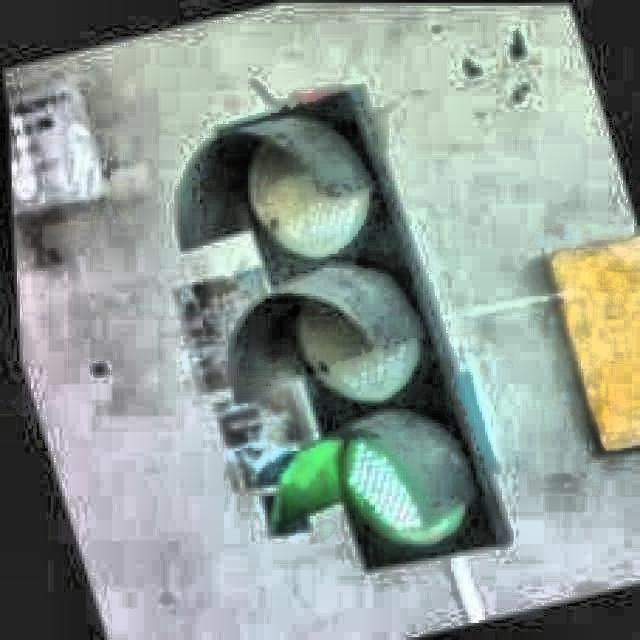green: (226, 117, 504, 564)
